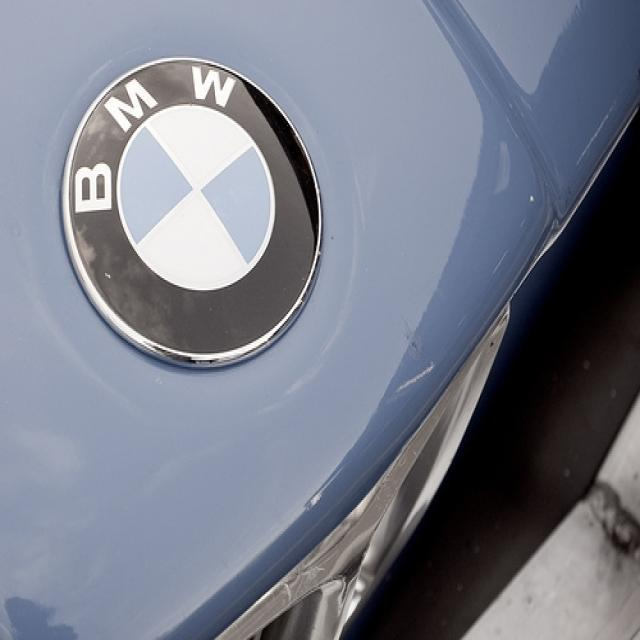bmw: (56, 51, 330, 378)
